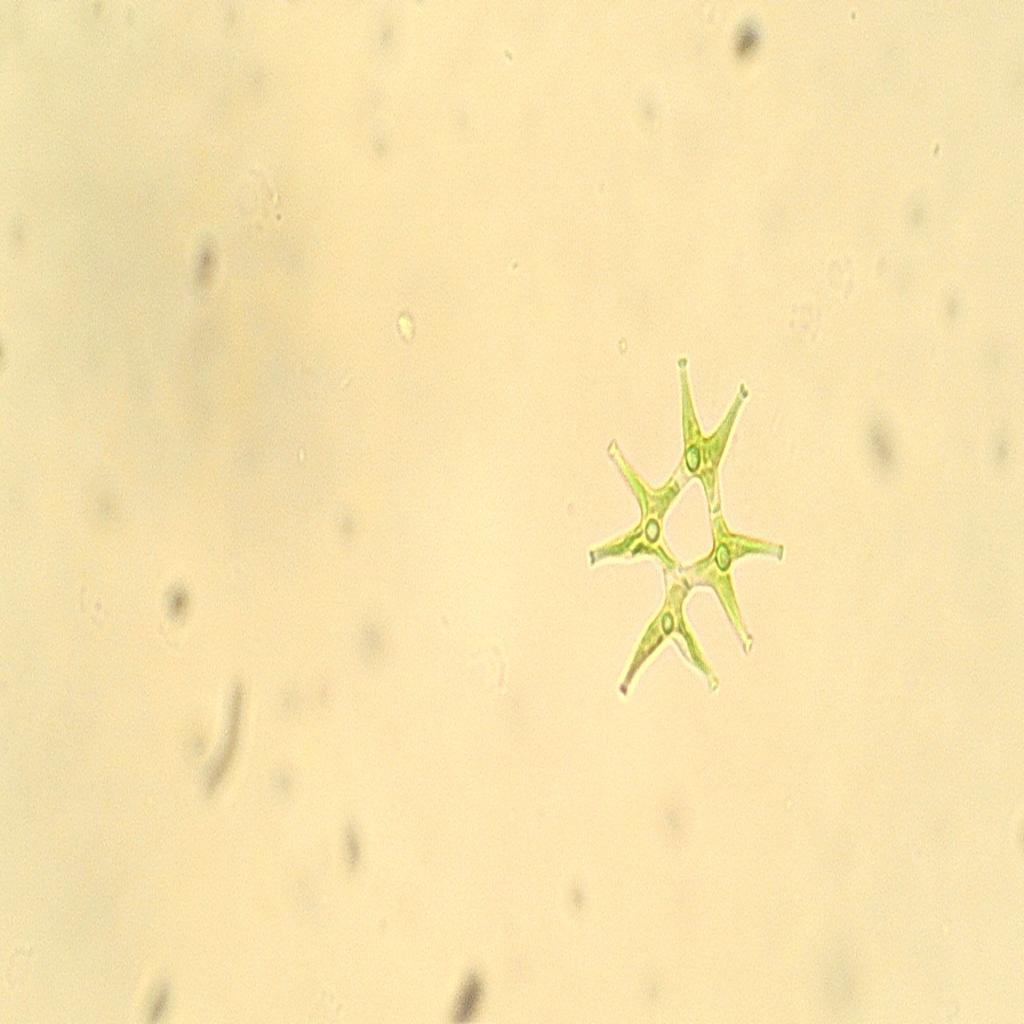Pediastrum_CT: (579, 349, 792, 718)
